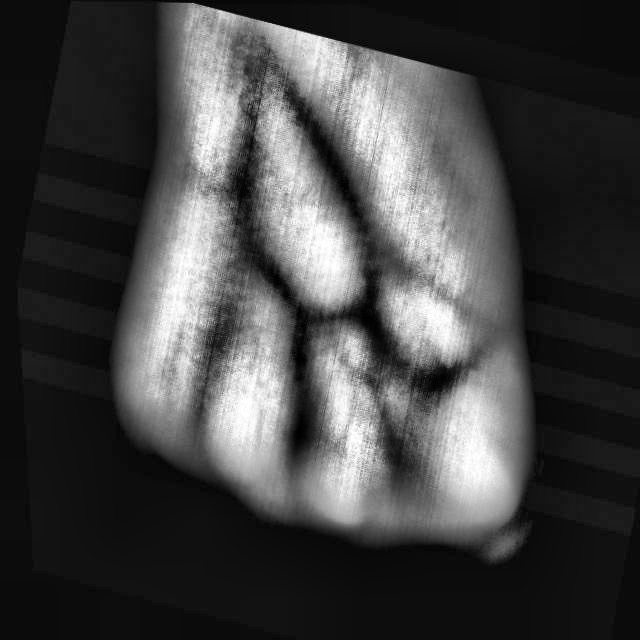Vein: (271, 66, 380, 229)
